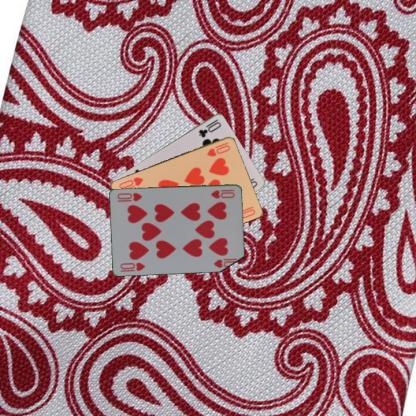10c: (196, 116, 222, 139)
10h: (205, 139, 231, 158), (118, 260, 147, 272), (209, 187, 236, 199)
